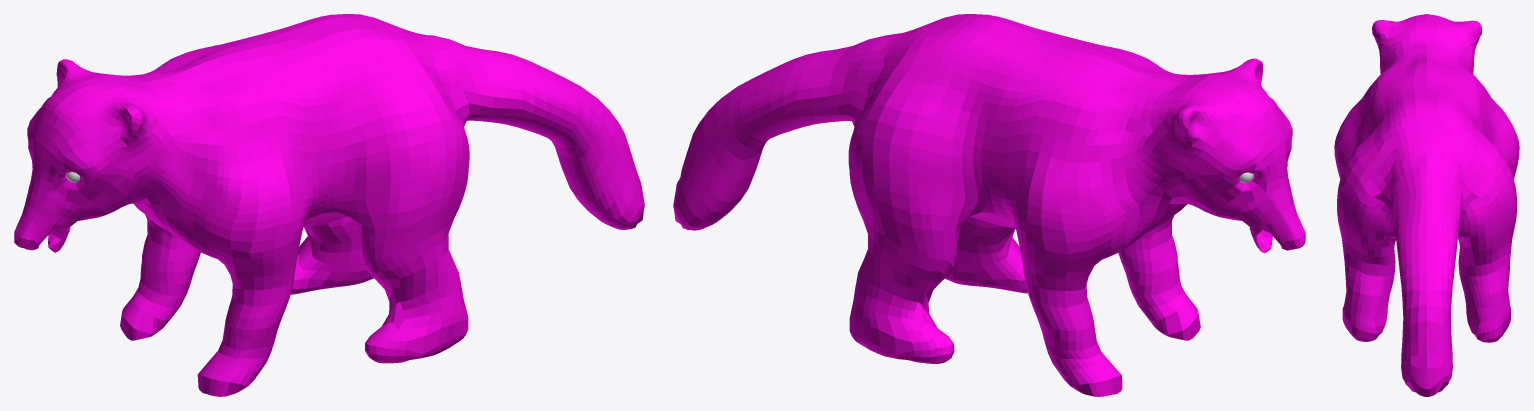
Rendered from CoatiSculptv4.fbx.
The picture shows the model from 3 angles, left to right: view 1: azimuth 30°, elevation 25°; view 2: azimuth 150°, elevation 25°; view 3: azimuth 270°, elevation 25°; orthographic projection. The views are drawn at different scales.
Visible parts, largest first — view 1: BSurfaceMesh; view 2: BSurfaceMesh; view 3: BSurfaceMesh.
Part boxes in pixels (x1,y1,x2,y2): BSurfaceMesh: [14, 14, 644, 396]; BSurfaceMesh: [673, 14, 1305, 396]; BSurfaceMesh: [1334, 14, 1519, 396].
Size of the model in its own units: 106 by 49.24 by 38.39.
